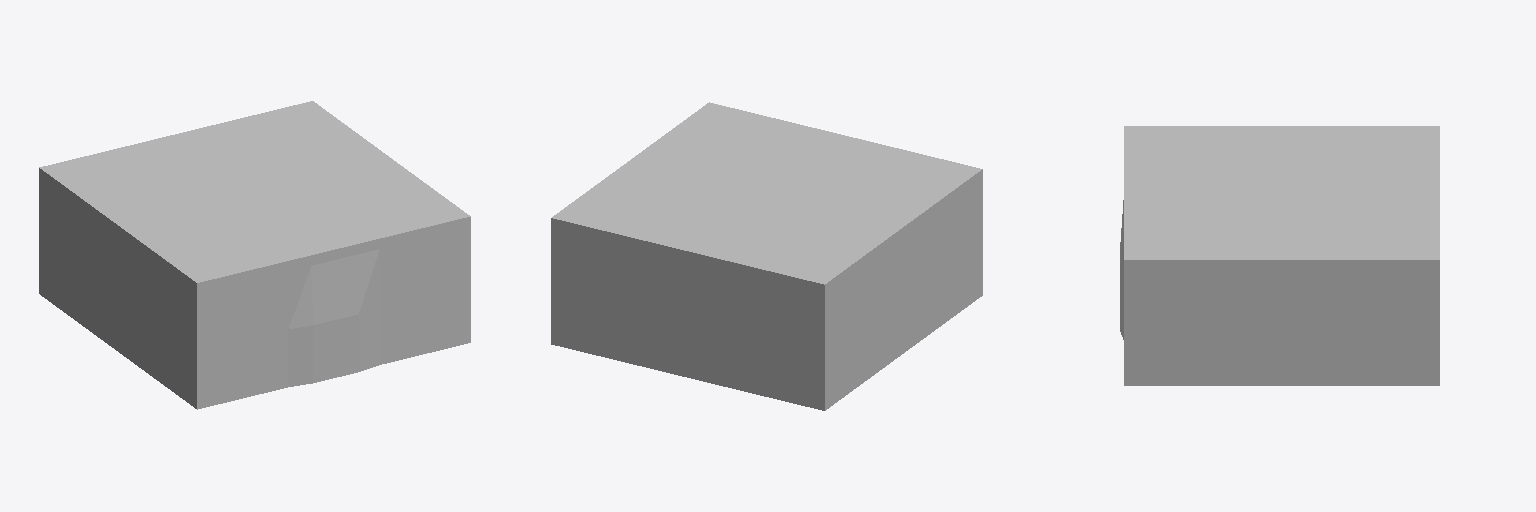
The model's file is CryoWalls.obj.
3 renders of one model, left to right at view 1: azimuth 30°, elevation 25°; view 2: azimuth 150°, elevation 25°; view 3: azimuth 270°, elevation 25°, orthographic.
Parts seen in each view (by area): view 1: pCube1 group11; view 2: pCube1 group11; view 3: pCube1 group11.
Part boxes in pixels (x1,y1,x2,y2): pCube1 group11: (39,101,470,409); pCube1 group11: (551,102,982,410); pCube1 group11: (1120,126,1439,385).
Size of the model in its own units: 12 by 5.3 by 12.16.